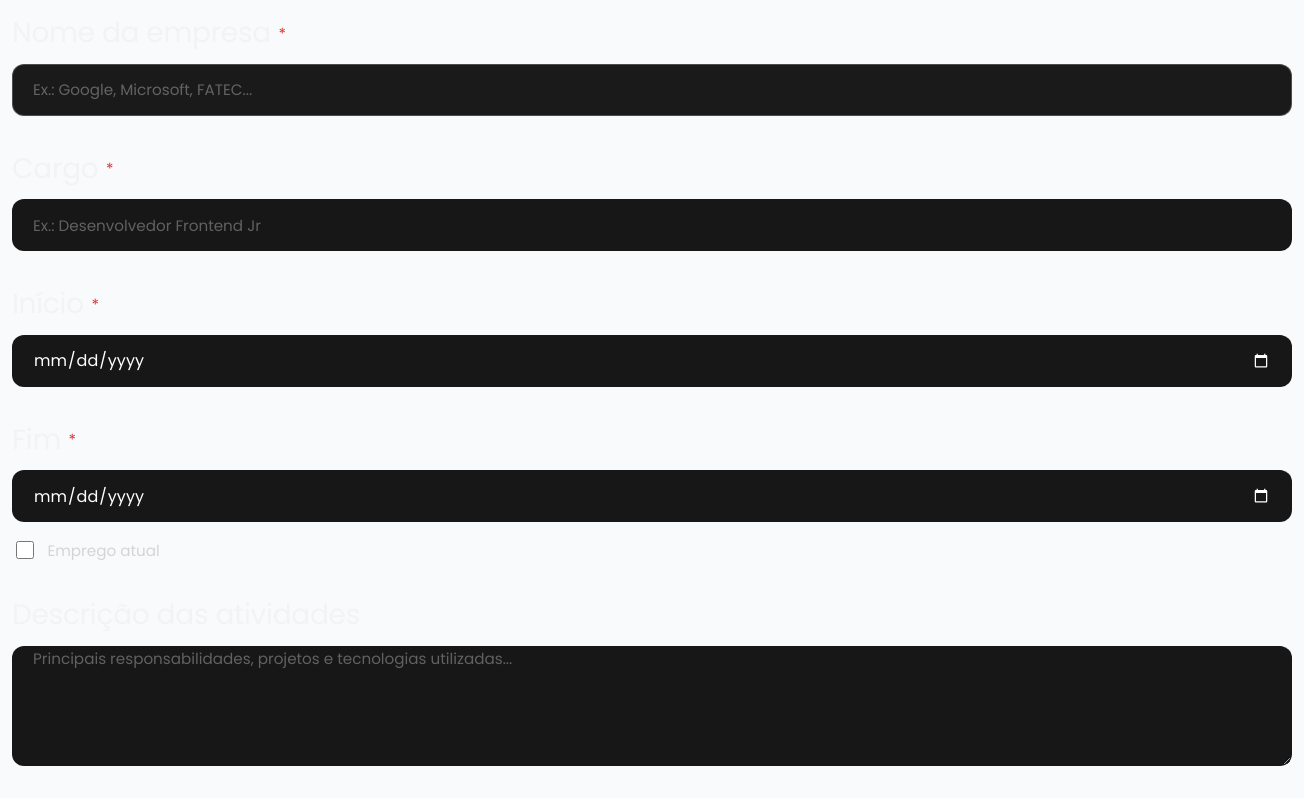
Test: FormularioExperiencias — Testes de Acessibilidade (a11y) › controla o estado acessível de desabilitação do campo Fim ao alternar Emprego atual
Expected: the date field labelled "Fim" is enabled, [12,470,1292,522]
Click the checkbox labelled "Emprego atual" at {"x": 25, "y": 550}, box [16,541,34,559]
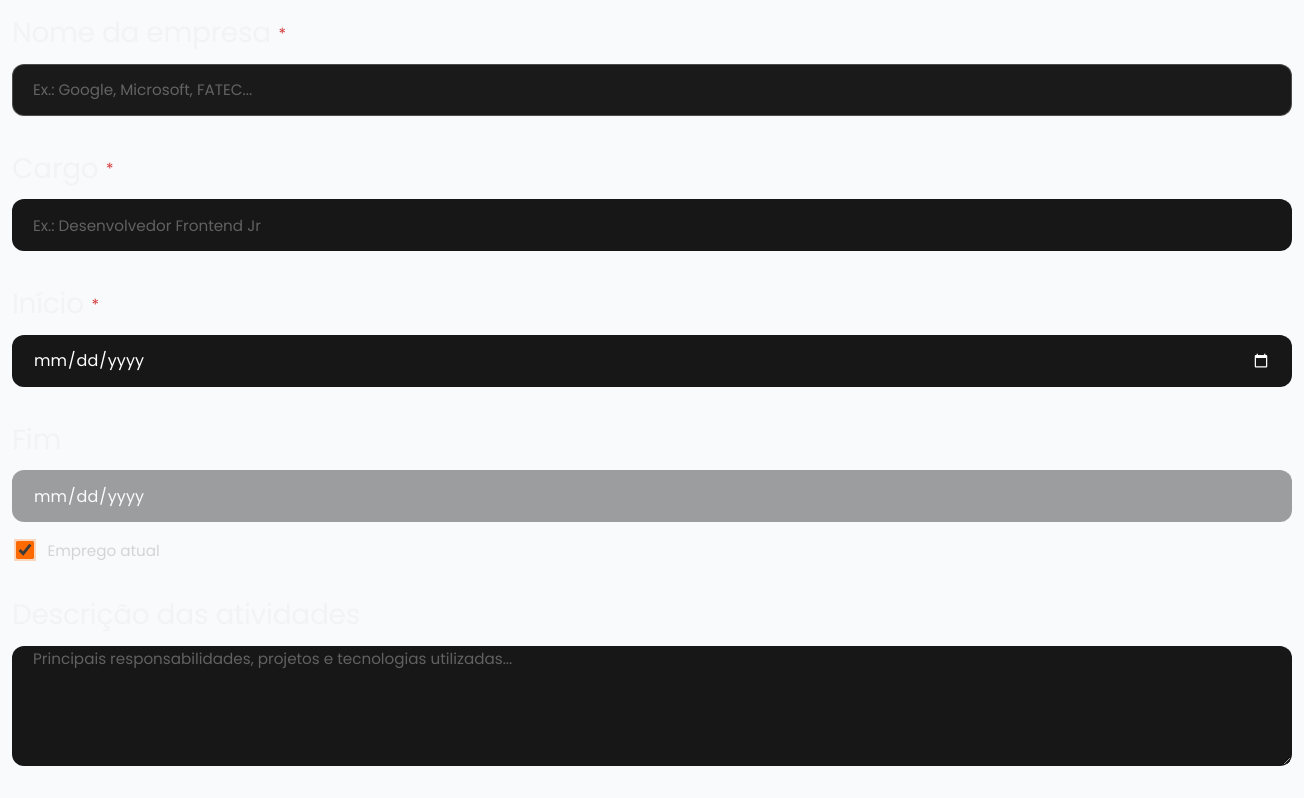
Result: the date field labelled "Fim" is disabled at [12,470,1292,522]
Click the checkbox labelled "Emprego atual" at {"x": 25, "y": 550}, box [16,541,34,559]
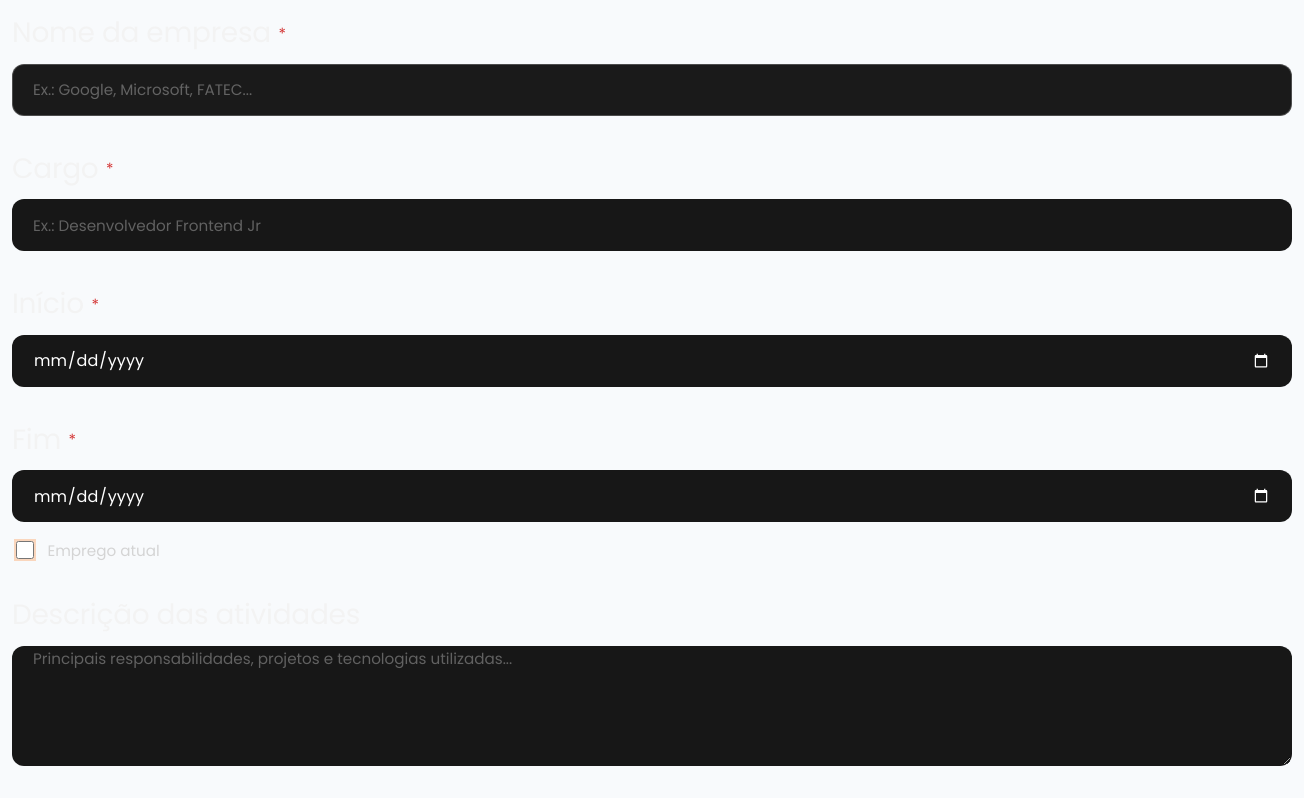
Result: the date field labelled "Fim" is enabled at [12,470,1292,522]
